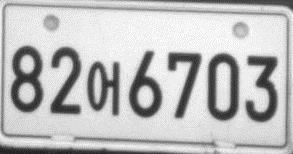0: (206, 52, 239, 122)
2: (49, 45, 81, 116)
3: (245, 54, 278, 122)
6: (128, 49, 162, 118)
7: (166, 51, 202, 120)
8: (9, 45, 43, 113)
어: (85, 60, 120, 117)
